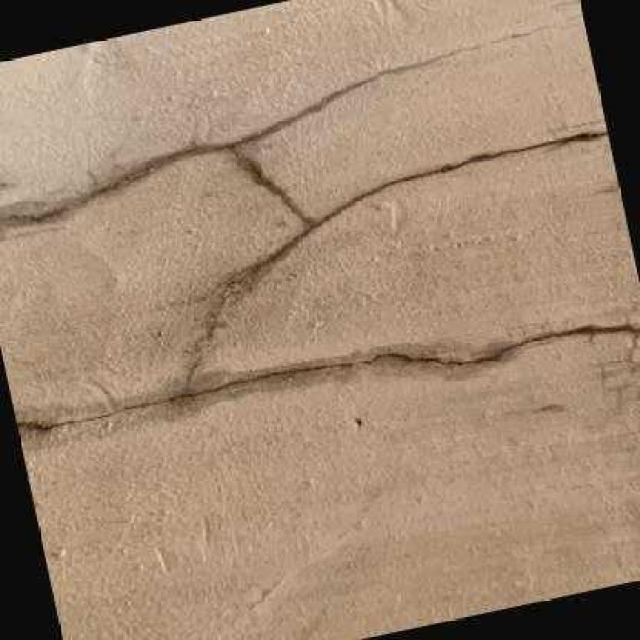D00: (0, 25, 640, 431)
